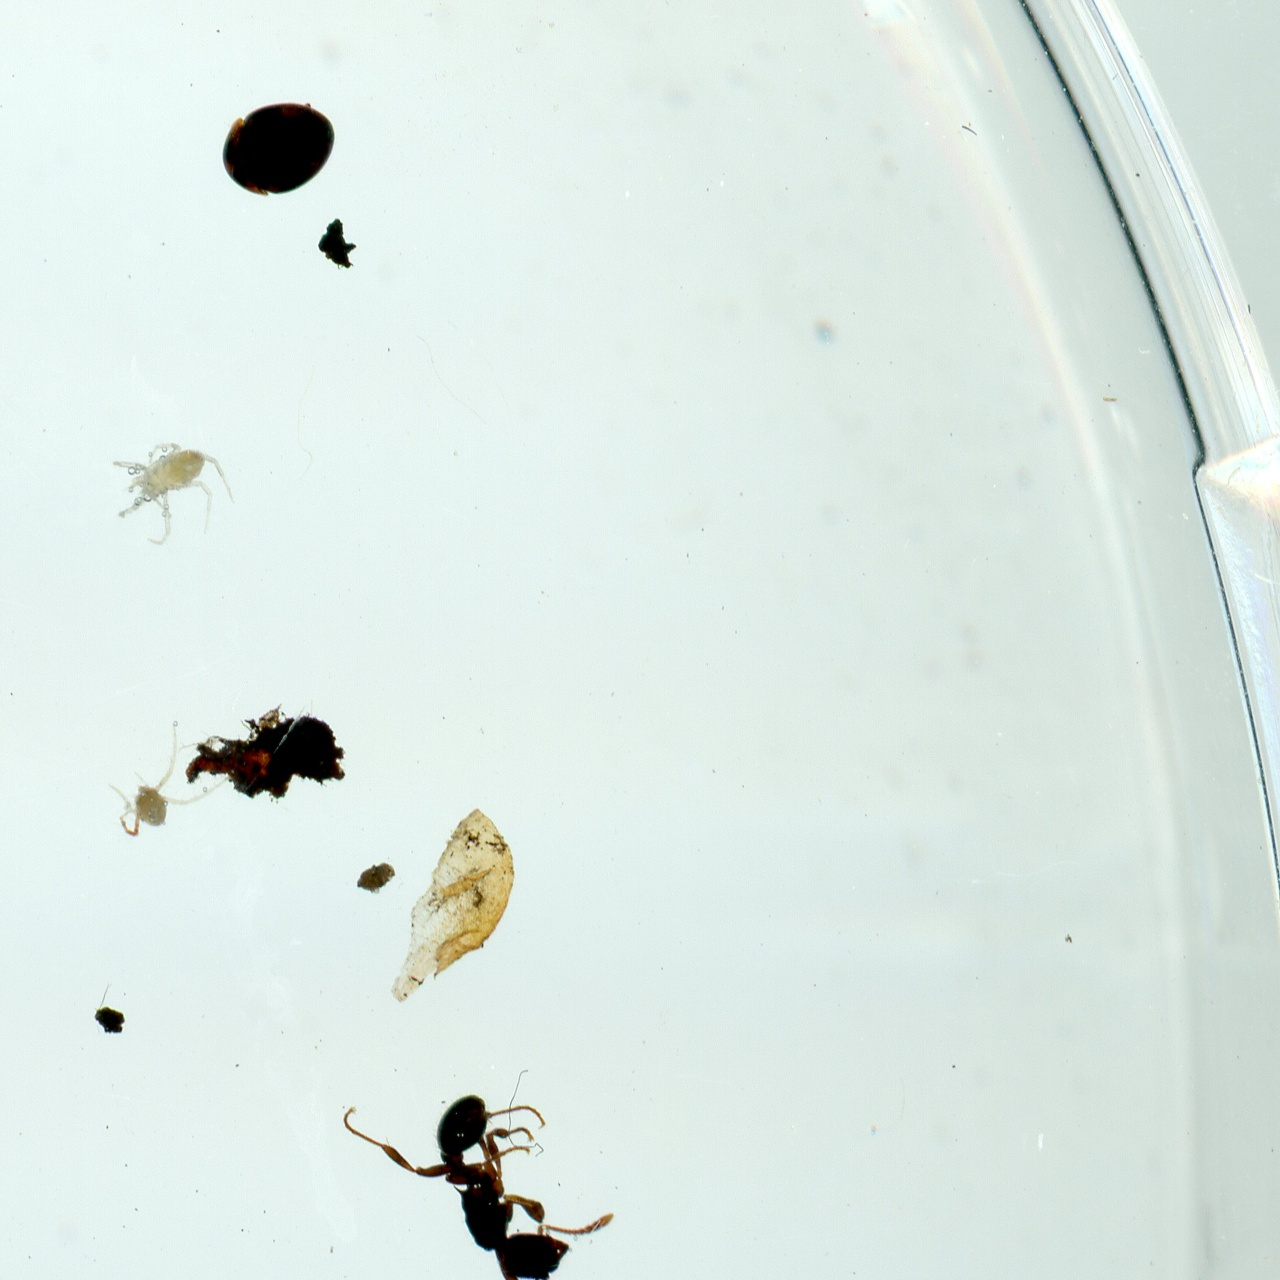arthropod: (333, 1087, 633, 1280), (105, 423, 240, 551), (102, 717, 236, 839), (212, 96, 346, 202)
